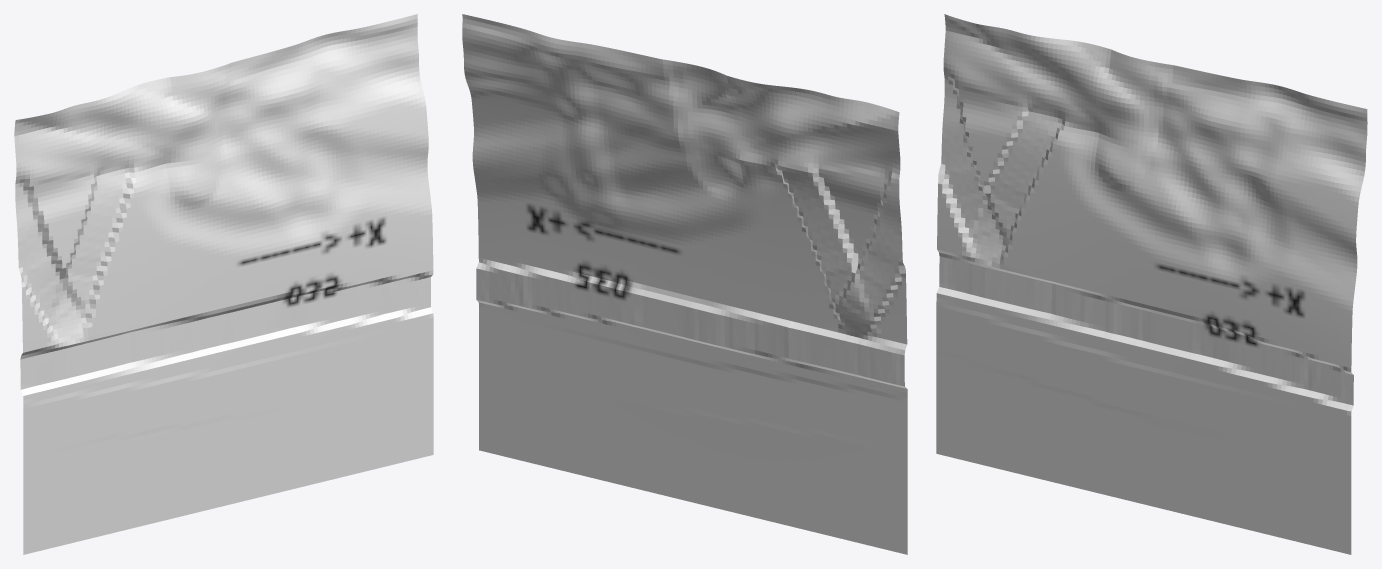
The picture shows the model from 3 angles, left to right: view 1: azimuth 30°, elevation 25°; view 2: azimuth 150°, elevation 25°; view 3: azimuth 330°, elevation 25°; orthographic projection. The views are drawn at different scales.
Parts seen in each view (by area): view 1: Ground035; view 2: Ground035; view 3: Ground035.
Part boxes in pixels (bbox=[...]): Ground035: bbox=[14, 14, 433, 554]; Ground035: bbox=[462, 14, 907, 554]; Ground035: bbox=[936, 14, 1367, 554].
Size of what is drawn, in the model's own units: 100 by 7.91 by 100.
Materials: 1 (1 with a texture image).
